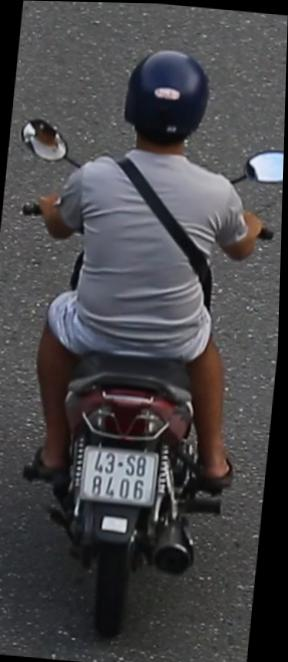LP: (79, 442, 167, 514)
helmet: (116, 38, 219, 173)
